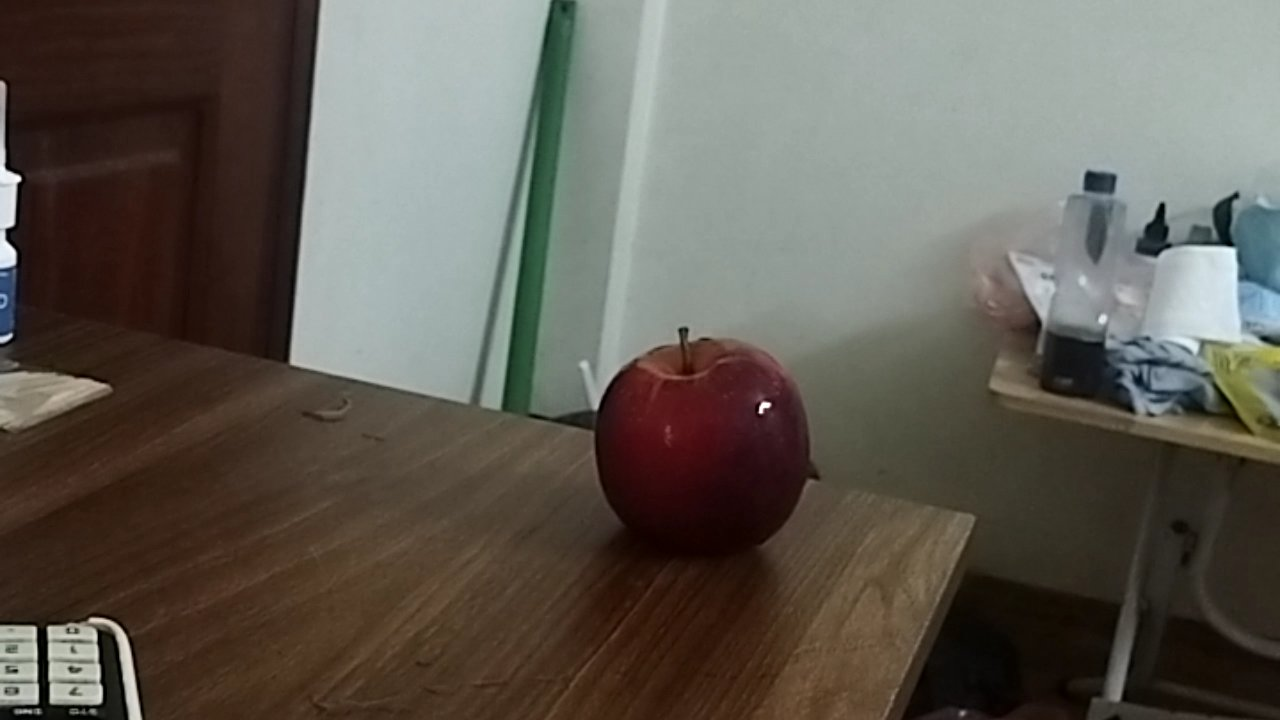apple_rotten: (586, 335, 815, 565)
